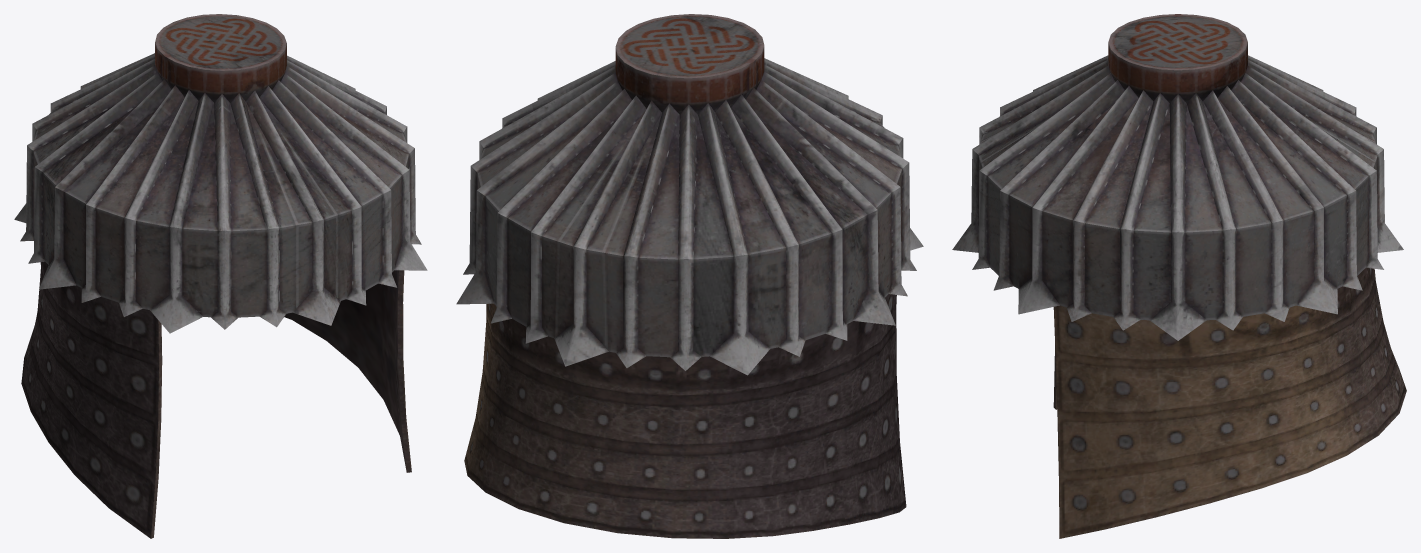
The model's file is sk_dwarf_iron_helmet_light_b2.fbx.
3 views of the same model, side by side, from view 1: azimuth 30°, elevation 25°; view 2: azimuth 150°, elevation 25°; view 3: azimuth 270°, elevation 25° (orthographic). The views are drawn at different scales.
Visible parts, largest first — view 1: sk_dwarf_iron_helmet_light_b2; view 2: sk_dwarf_iron_helmet_light_b2; view 3: sk_dwarf_iron_helmet_light_b2.
Part boxes in pixels (box(x1,y1,x2,y2)): sk_dwarf_iron_helmet_light_b2: box(14, 14, 427, 538); sk_dwarf_iron_helmet_light_b2: box(456, 14, 923, 538); sk_dwarf_iron_helmet_light_b2: box(952, 14, 1406, 538).
Bounding box in the file's own units: 0.2985 × 0.3149 × 0.3294.
1 material, 1 textured.
